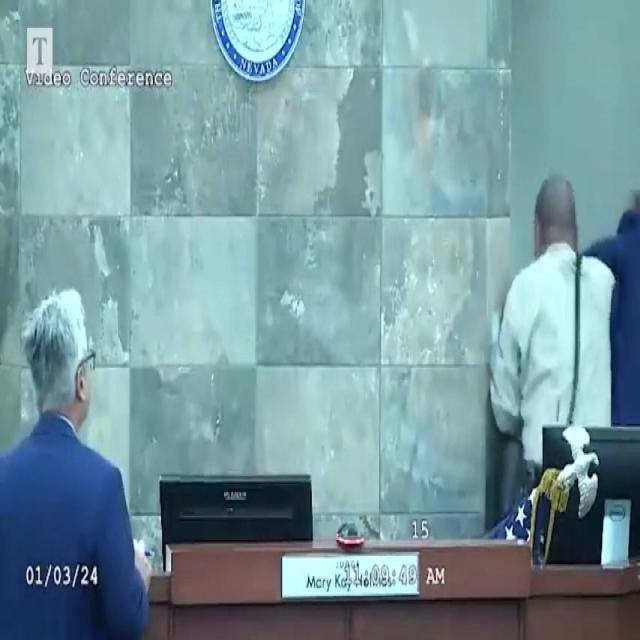fight: (494, 164, 640, 540)
non-fight: (2, 283, 156, 640)
